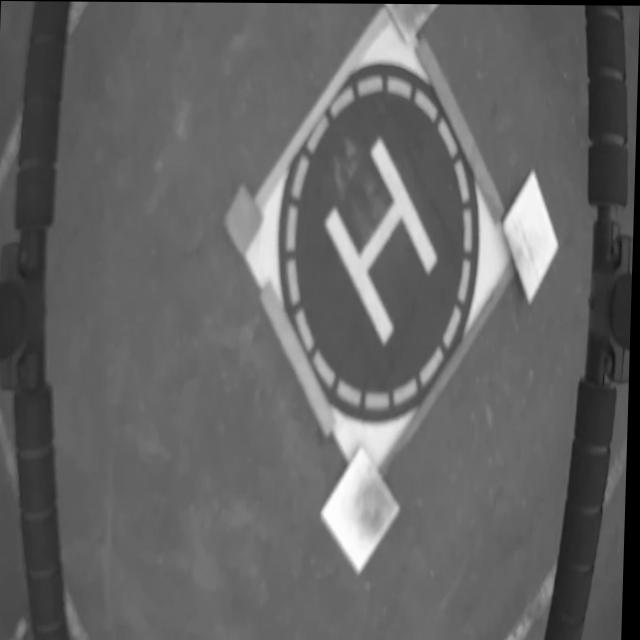Helipad: (323, 134, 438, 342)
